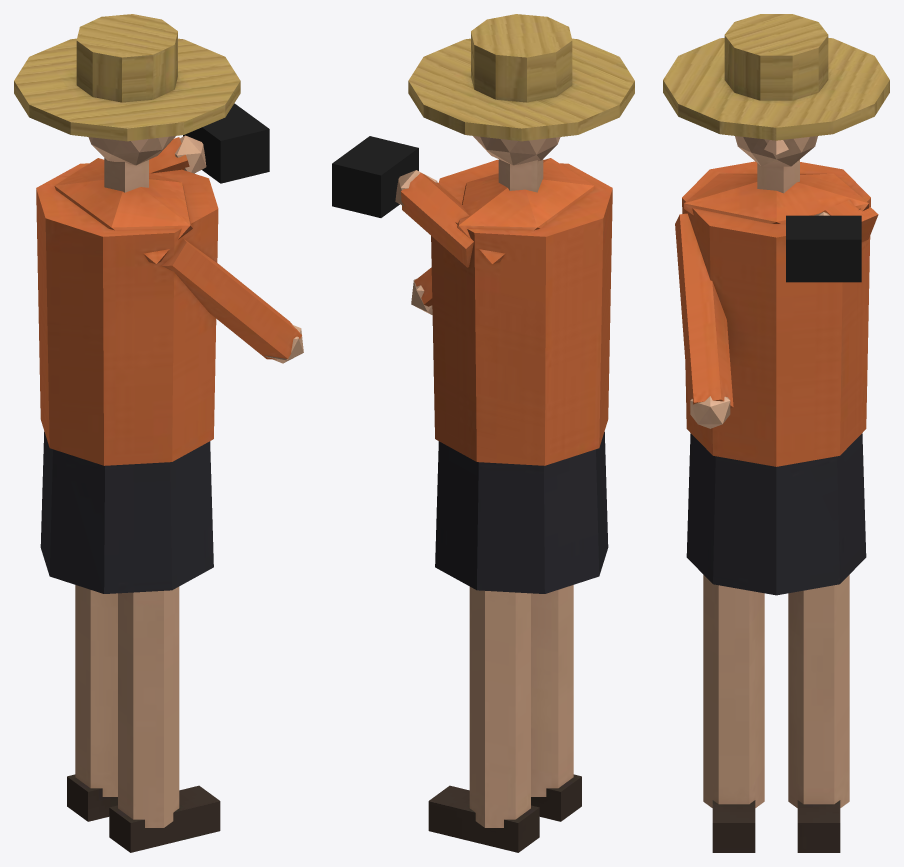
The model's file is turist_1_tex.glb.
The picture shows the model from 3 angles, left to right: view 1: azimuth 30°, elevation 25°; view 2: azimuth 150°, elevation 25°; view 3: azimuth 270°, elevation 25°; orthographic projection.
Parts seen in each view (by area): view 1: turist_1; view 2: turist_1; view 3: turist_1.
Boxes of the visible parts, x1=… form: turist_1: x1=14, y1=14, x2=303, y2=852; turist_1: x1=332, y1=14, x2=634, y2=852; turist_1: x1=663, y1=14, x2=889, y2=852.
Bounding box in the file's own units: 0.6 × 1.84 × 0.48.
6 materials, 5 textured.
